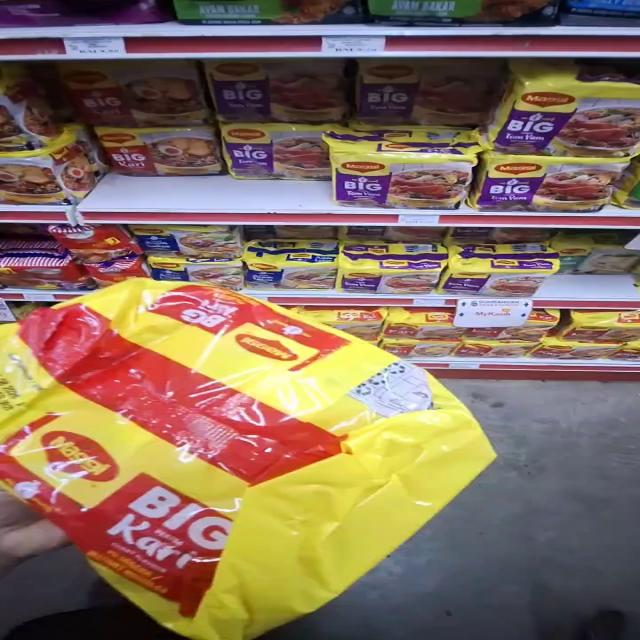Maggi: (0, 288, 476, 624), (148, 237, 621, 296), (0, 84, 105, 207), (499, 70, 640, 152), (329, 134, 472, 214), (479, 153, 637, 214), (62, 68, 216, 128), (370, 70, 504, 132), (222, 68, 359, 128), (498, 312, 640, 366), (0, 236, 134, 292), (90, 132, 228, 184), (231, 127, 339, 184)
